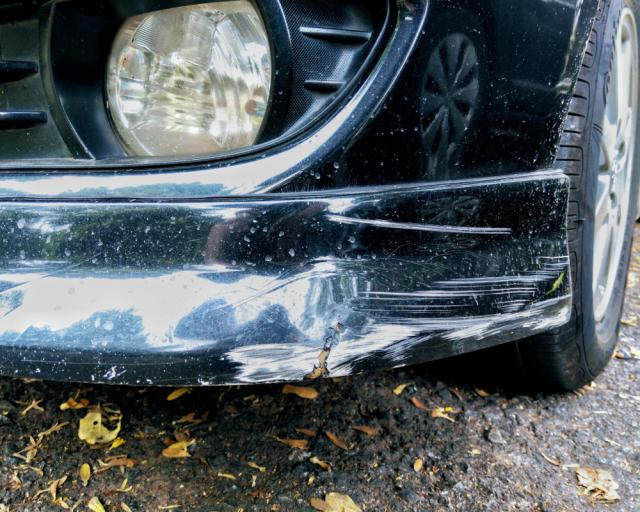crack: (307, 318, 344, 380)
scratch: (220, 250, 576, 385), (324, 210, 514, 236)
